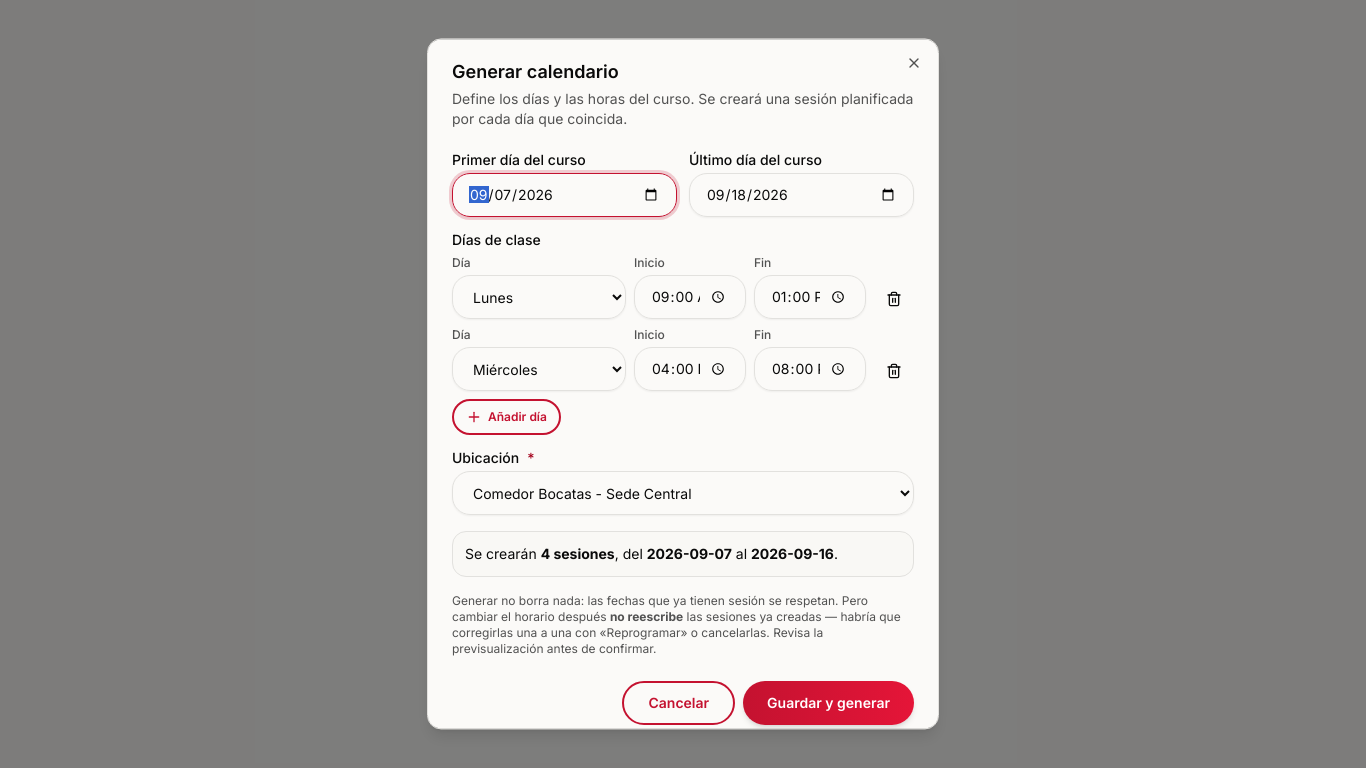
Test: GenerarCalendarioDialog — validación › no genera con hora de fin anterior a la de inicio
Step 1. Replace the text in the time field with id "franja-0-fin" with "08:00" → {"x": 810, "y": 297}, box [754, 275, 866, 319]
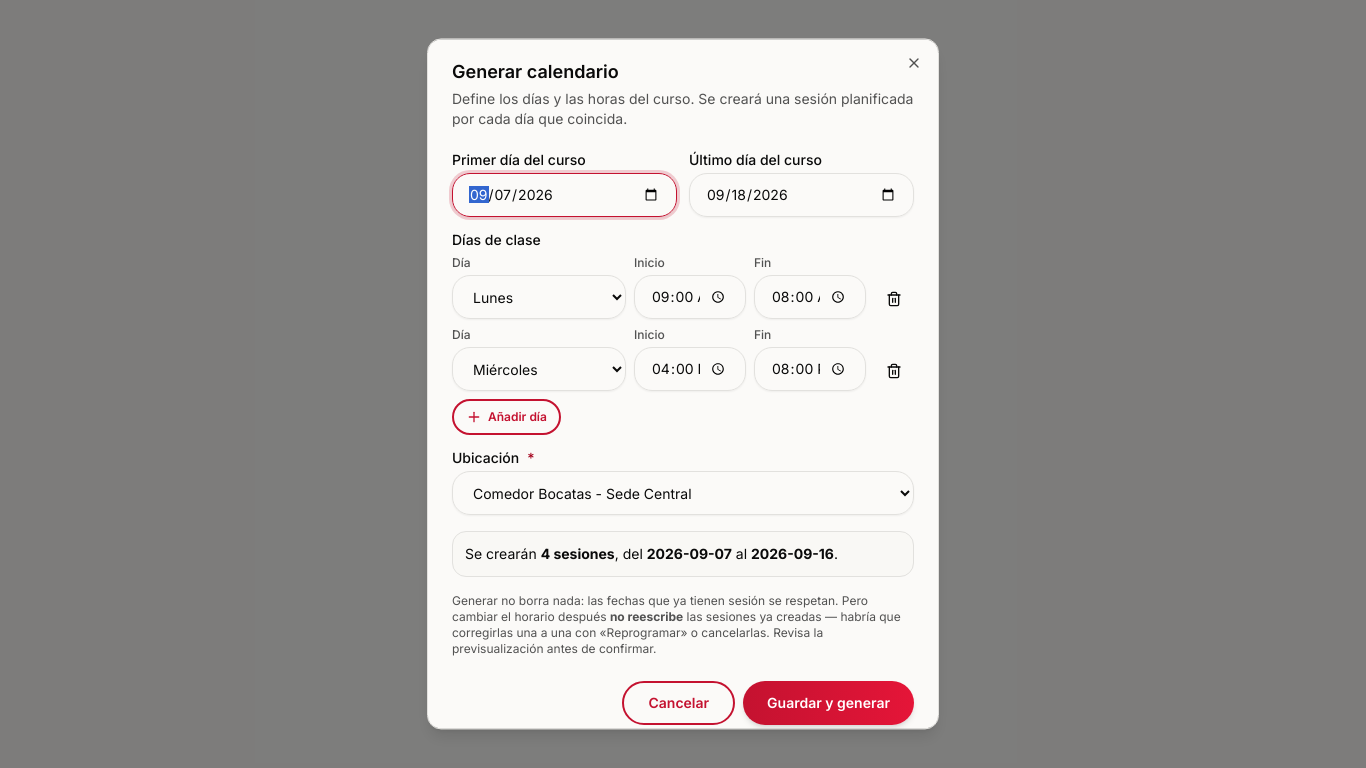
Step 2. Click the button "Guardar y generar" → {"x": 829, "y": 703}, box [743, 681, 914, 725]
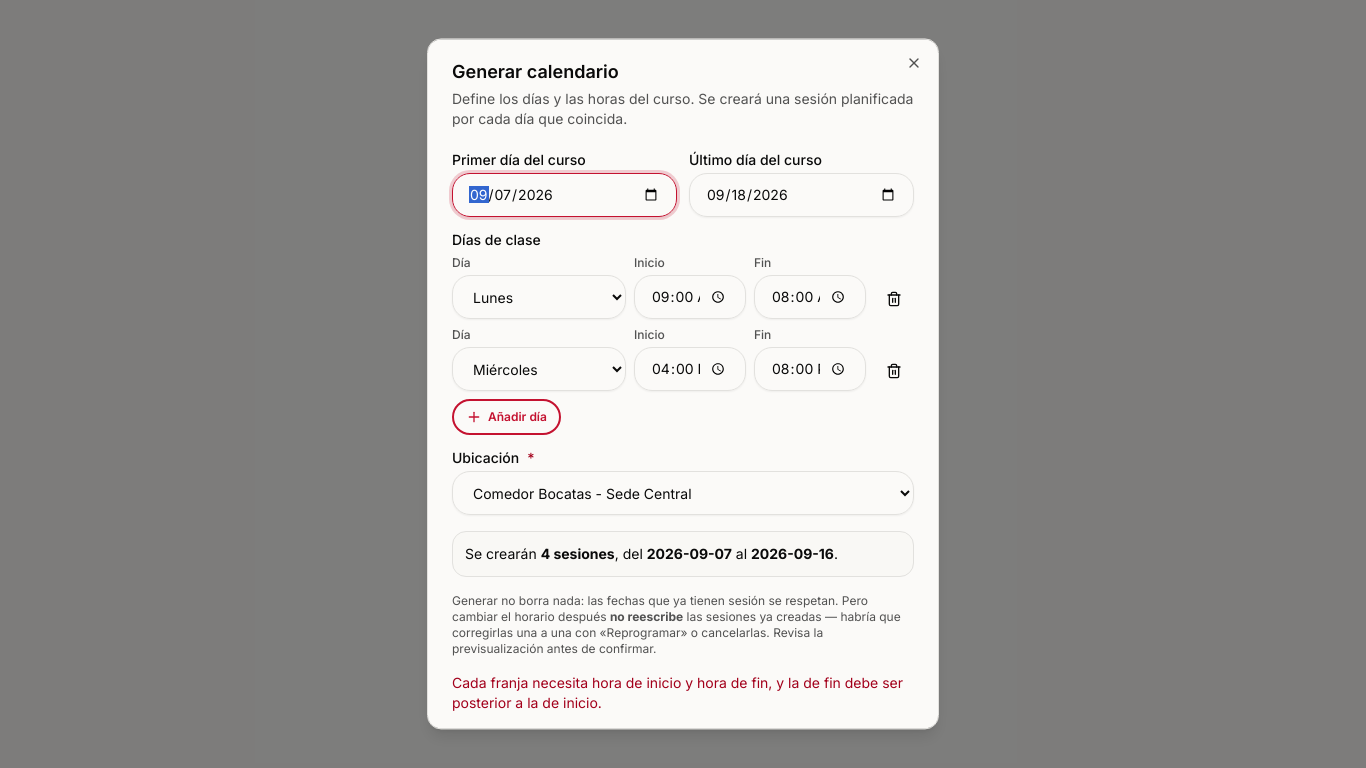
Expected: the list item "debe ser posterior a la de inicio" is shown, [452, 674, 903, 711]
